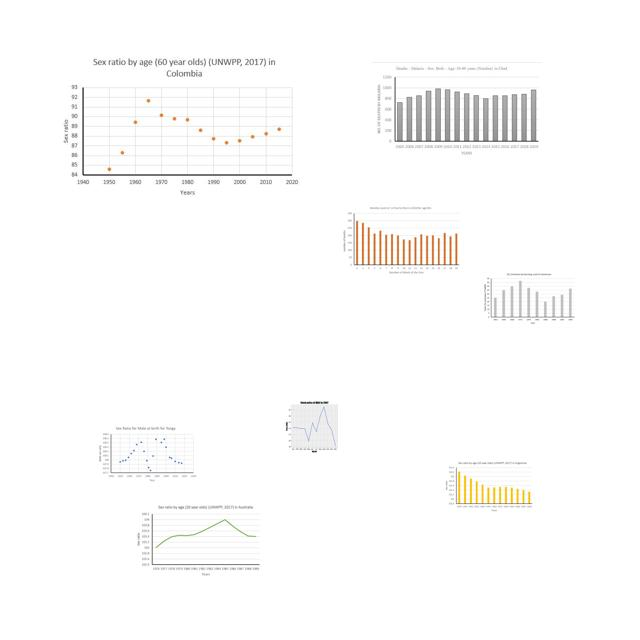Graph: (56, 53, 302, 200), (372, 62, 542, 157), (133, 503, 262, 578), (340, 204, 462, 277), (95, 424, 199, 485), (482, 272, 576, 325), (443, 460, 534, 513), (276, 398, 351, 454)
